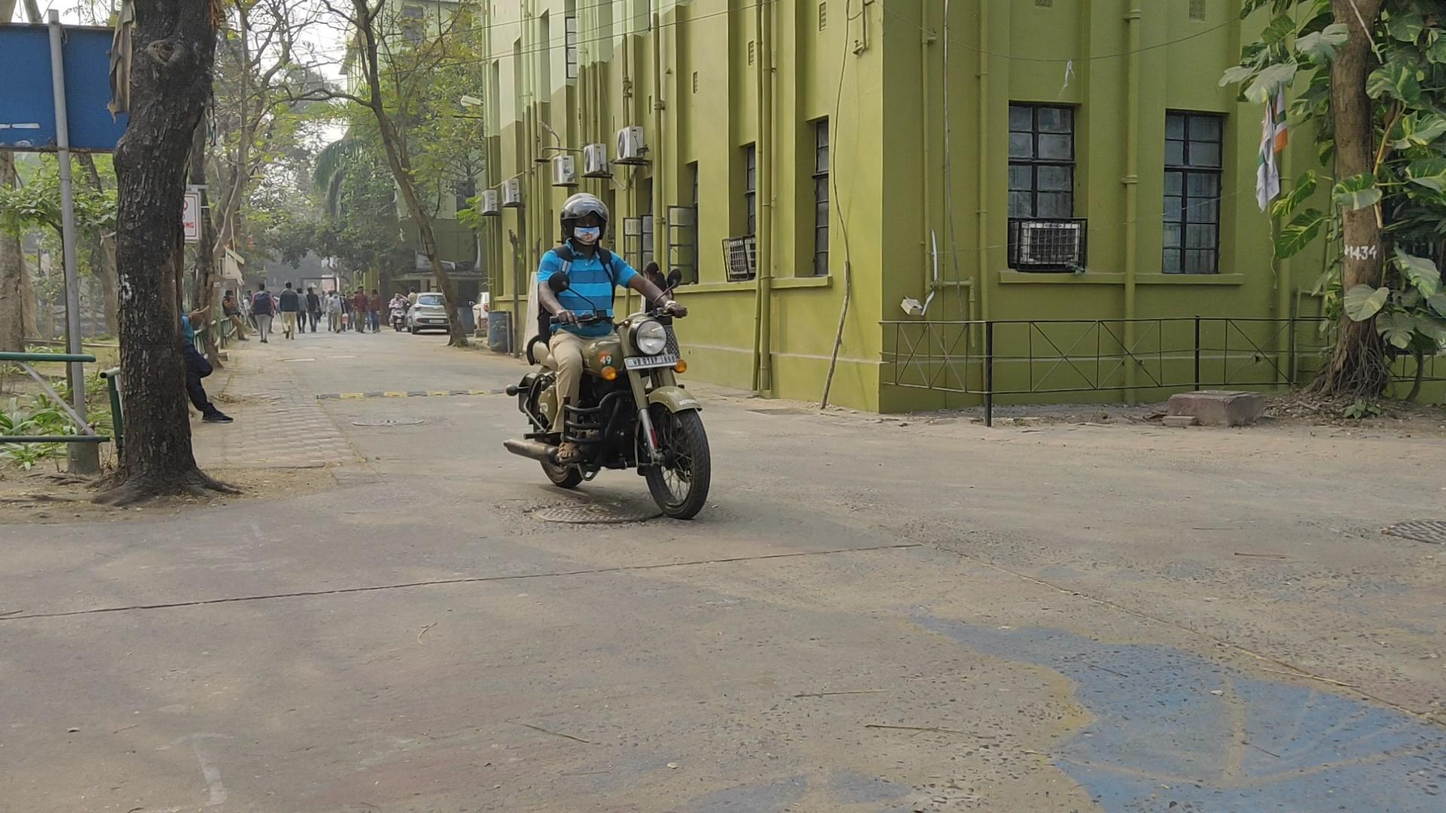bike: (505, 193, 713, 520), (386, 292, 408, 332)
car: (404, 292, 450, 336)
